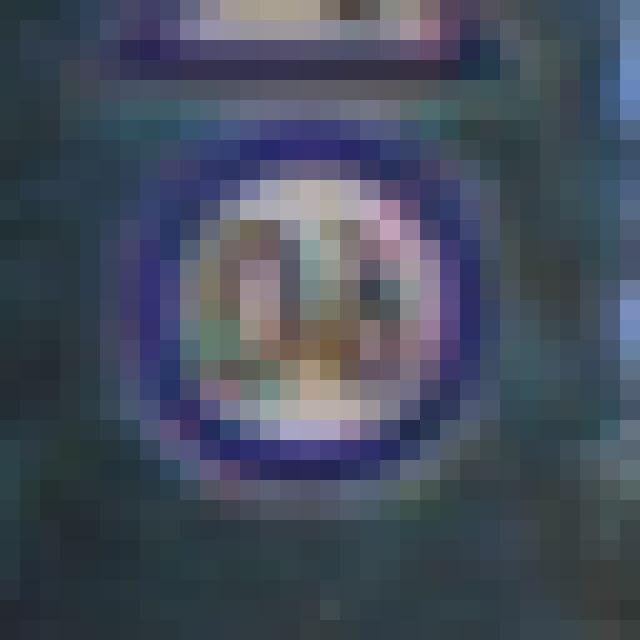SPEED-LIMIT-60: (97, 100, 498, 527)
